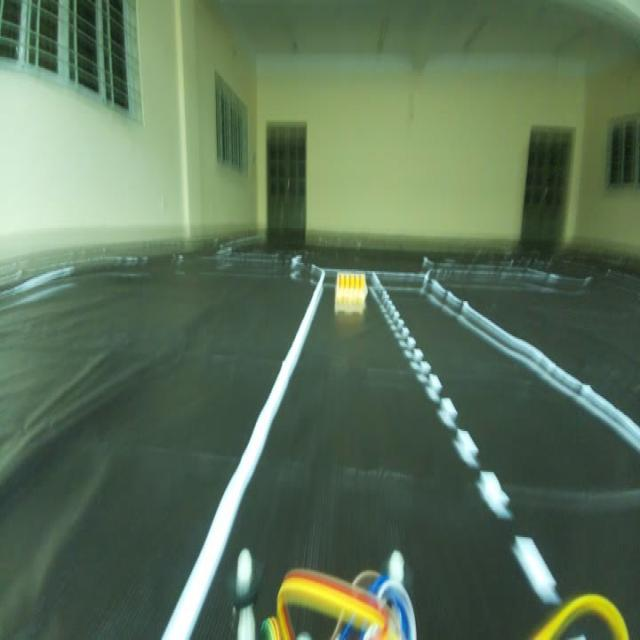roadblock: (328, 265, 368, 302)
